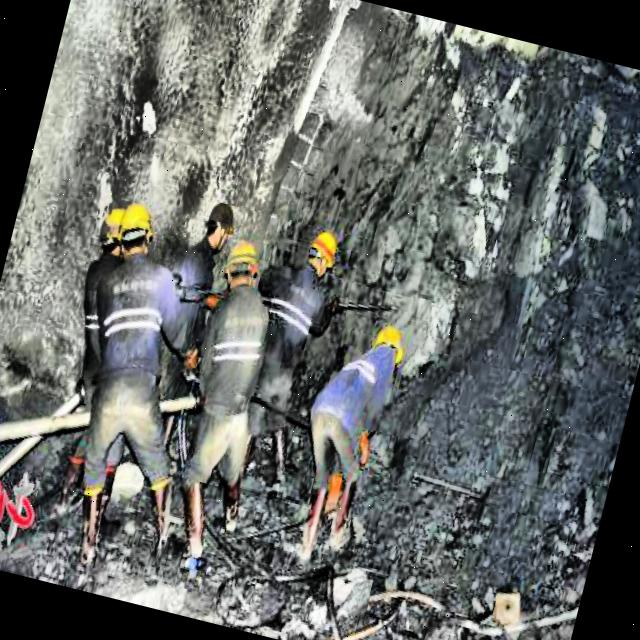helmet: (218, 233, 267, 304), (111, 198, 160, 262), (298, 223, 345, 289), (366, 320, 412, 376), (198, 196, 240, 255), (91, 200, 128, 264)
